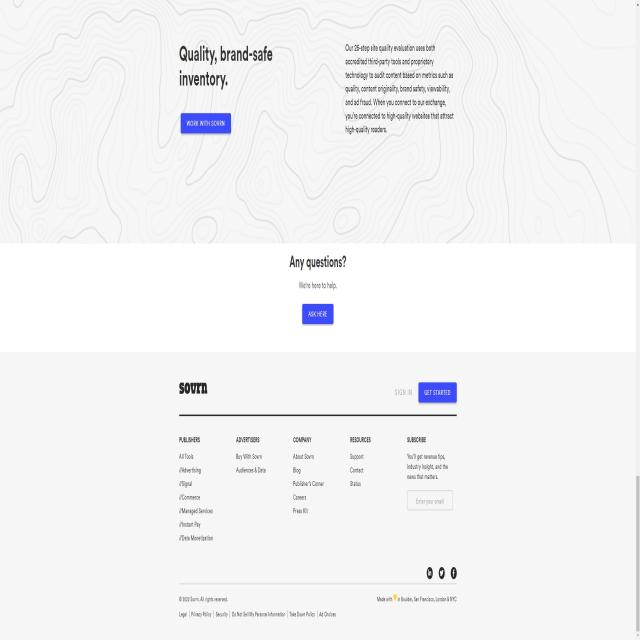tab-bar: (389, 377, 458, 411)
